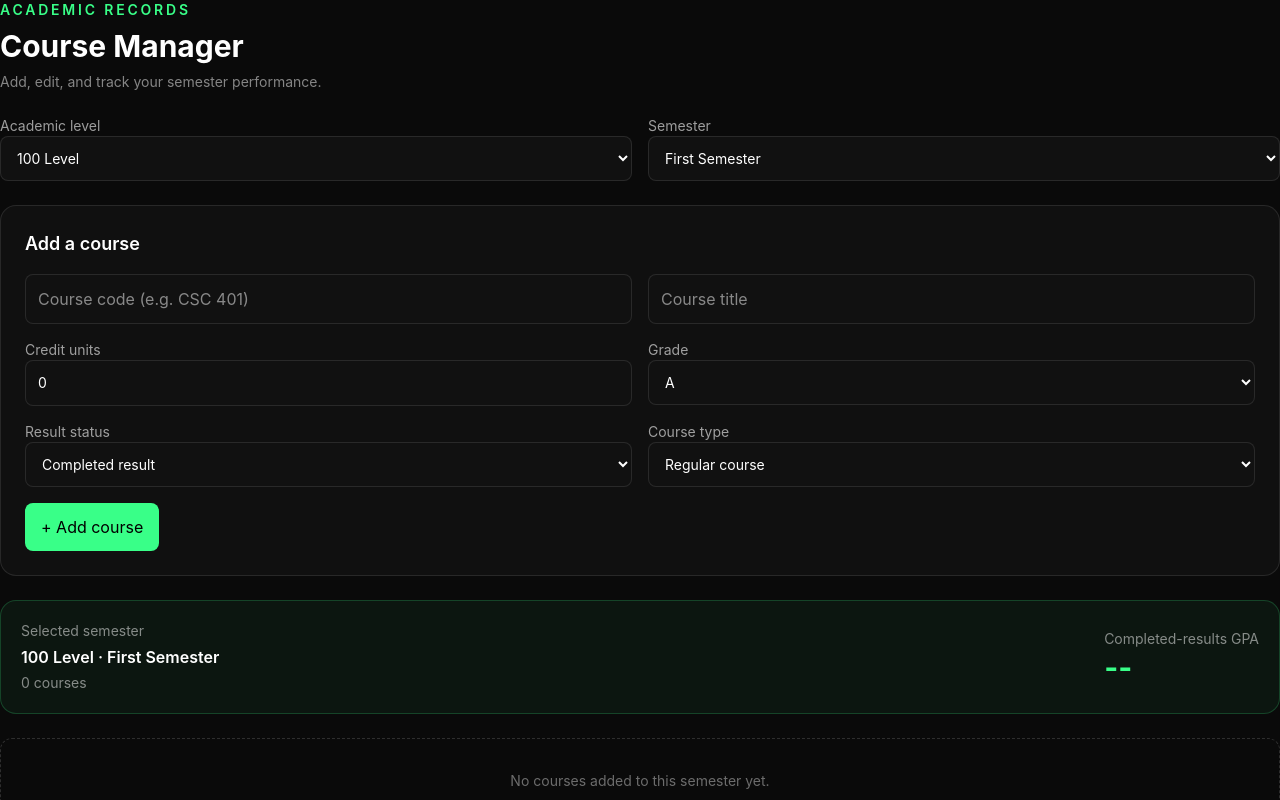
it: CourseManager › deletes a course
Type "CSC 401" into the field with placeholder "Course code (e.g. CSC 401)". click: (328, 299)
box: top-left (25, 274), bottom-right (632, 324)
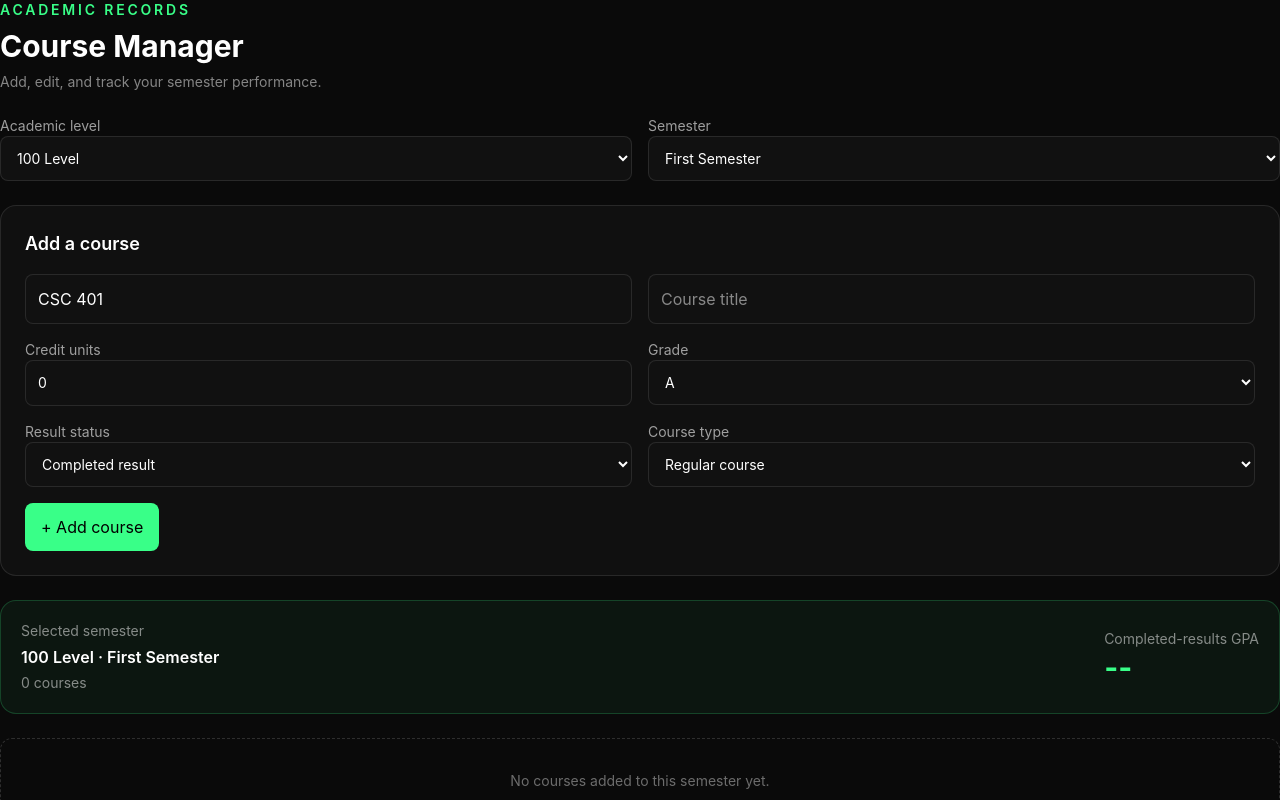
Type "Software Engineering" into the field with placeholder "Course title". click: (952, 299)
box: top-left (648, 274), bottom-right (1255, 324)
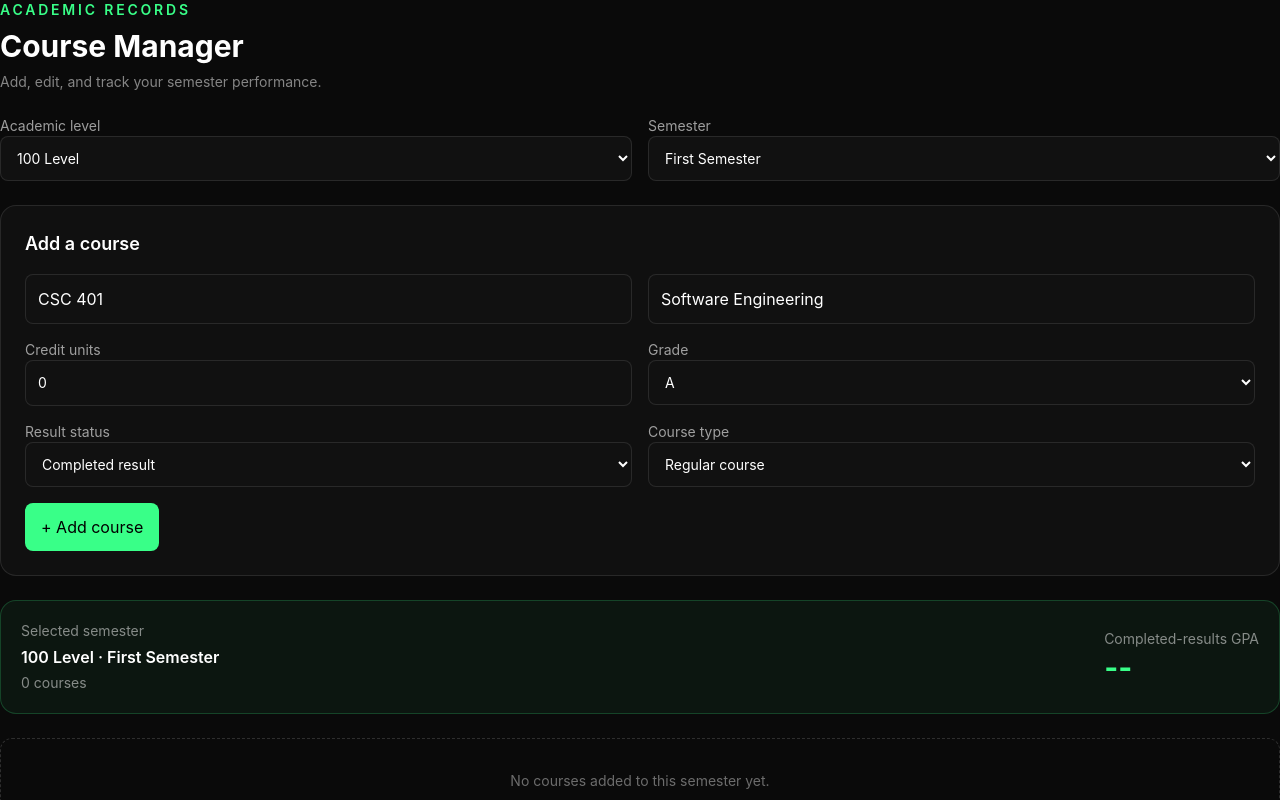
Replace the text in the number field labelled "Credit units" with "3". click: (328, 383)
box: top-left (25, 360), bottom-right (632, 406)
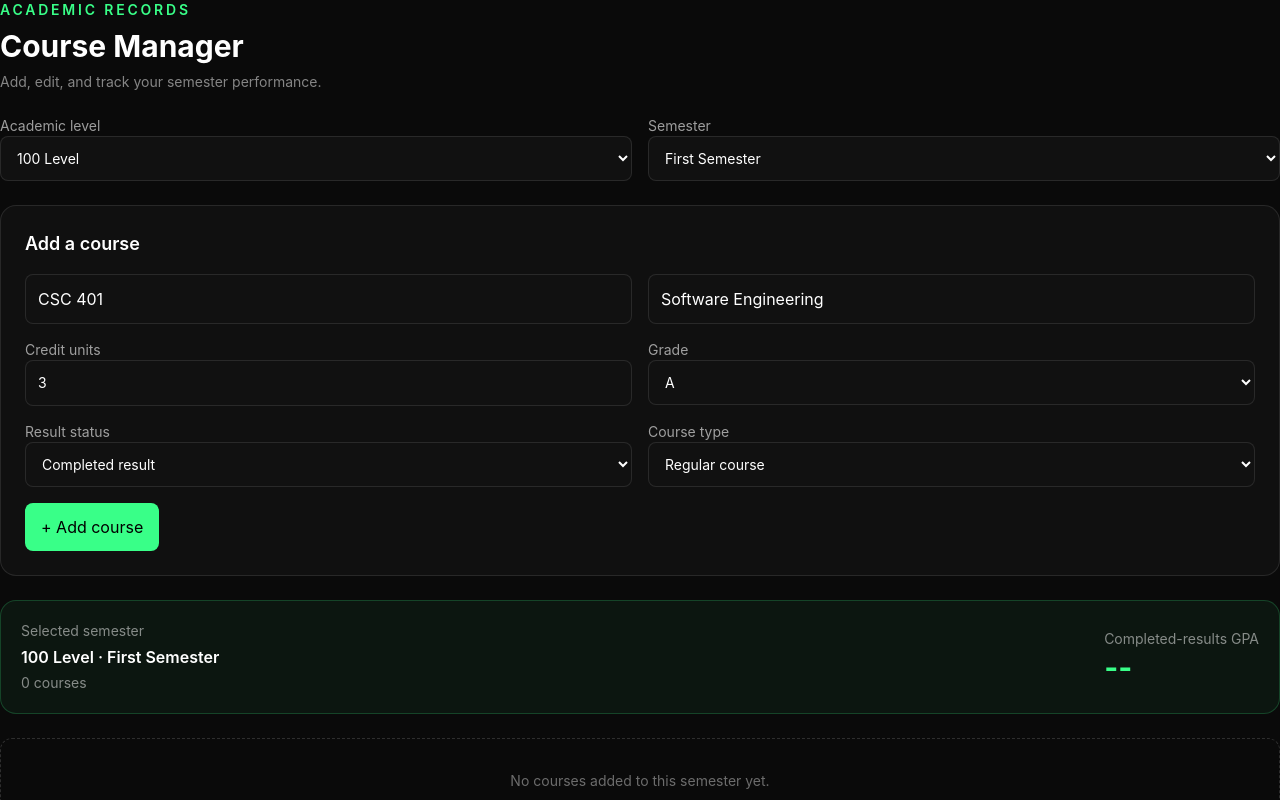
Select "A" in the dropdown labelled "Grade". click: (952, 382)
box: top-left (648, 360), bottom-right (1255, 405)
Select "Completed result" in the dropdown labelled "Result status". click: (328, 464)
box: top-left (25, 442), bottom-right (632, 487)
Select "Regular course" in the dropdown labelled "Course type". click: (952, 464)
box: top-left (648, 442), bottom-right (1255, 487)
Click the button "+ Add course". click: (92, 527)
box: top-left (25, 503), bottom-right (159, 551)
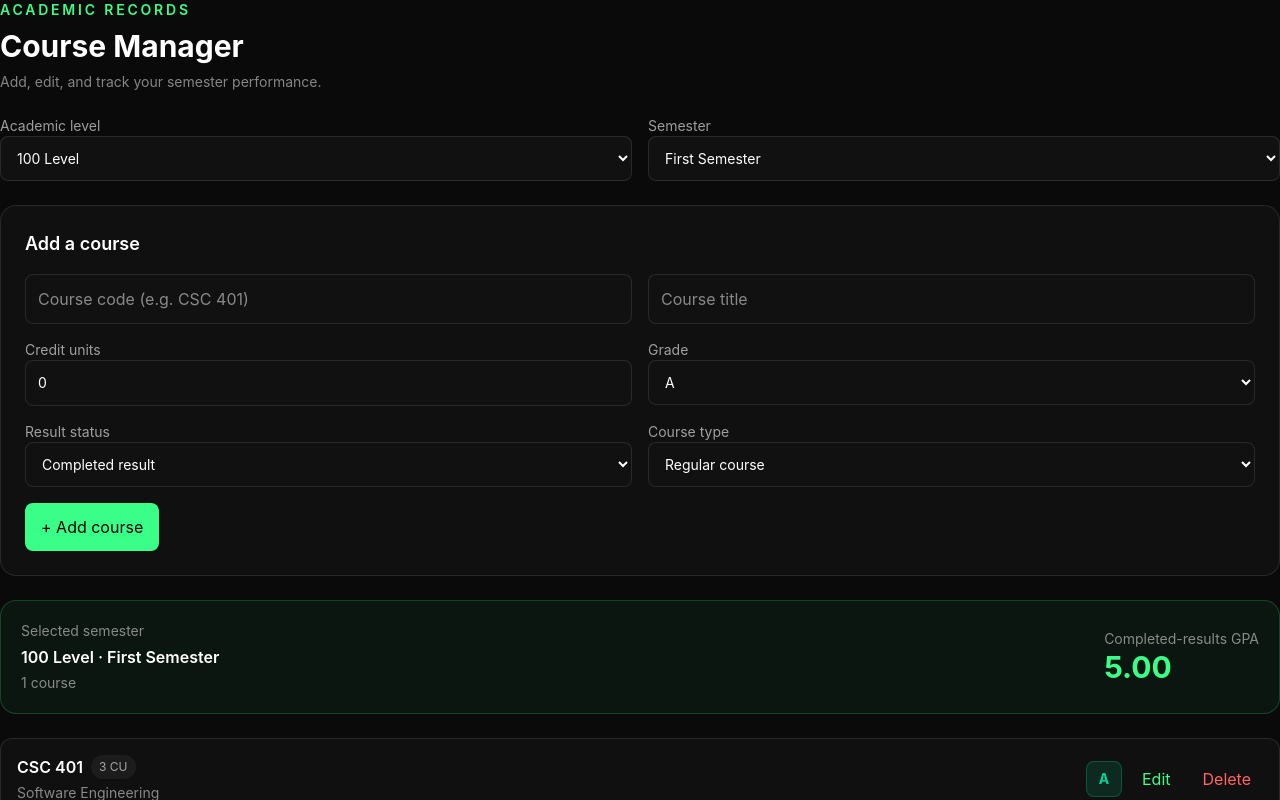
Click the button with aria-label "delete CSC 401". click: (1227, 779)
box: top-left (1190, 759), bottom-right (1263, 799)
(page scrolled)
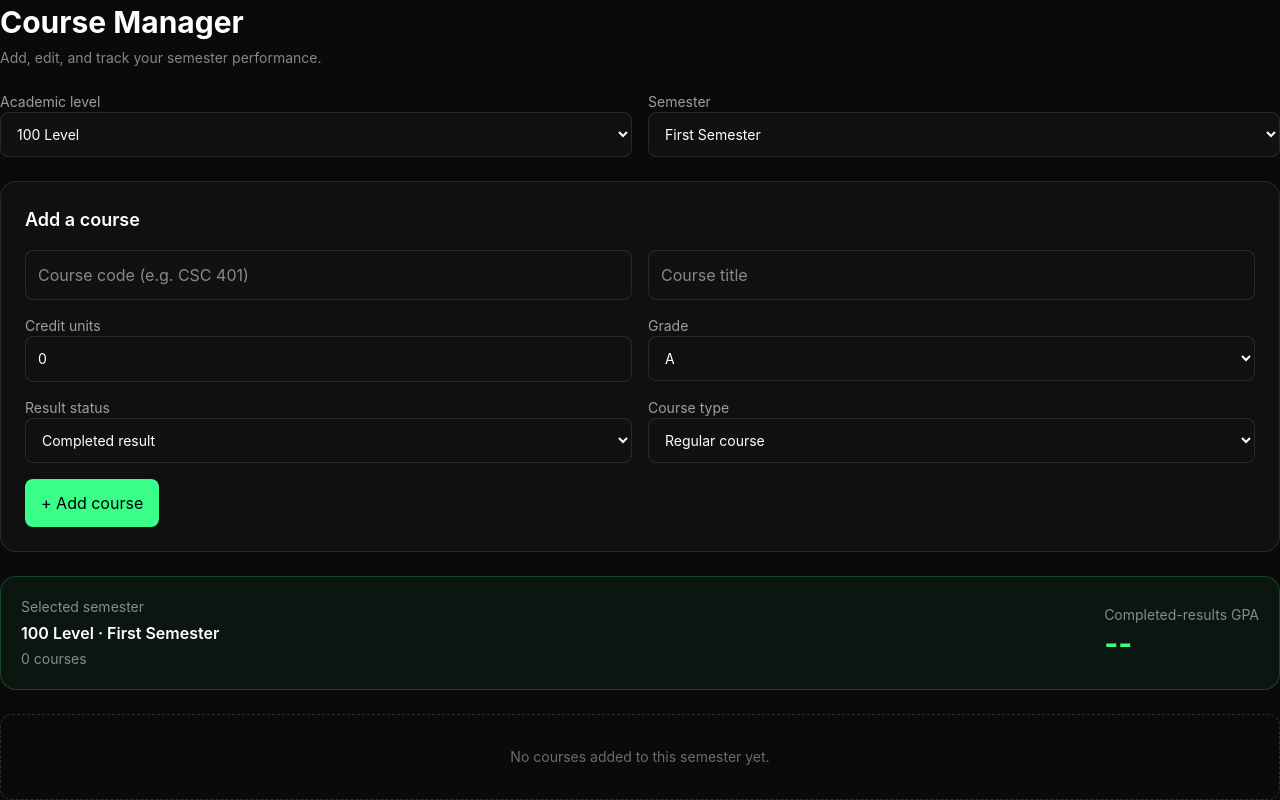
Result: the text "No courses added to this semester yet." is shown at top-left (0, 714), bottom-right (1279, 799)
